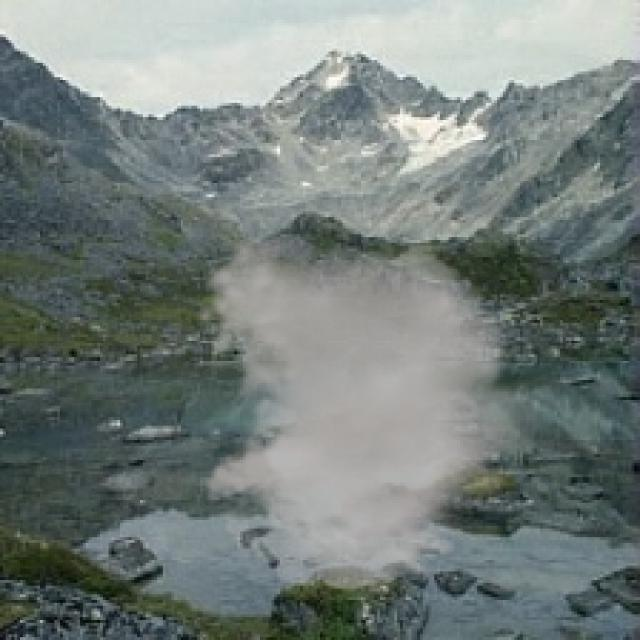Smoke: (194, 234, 557, 589)
